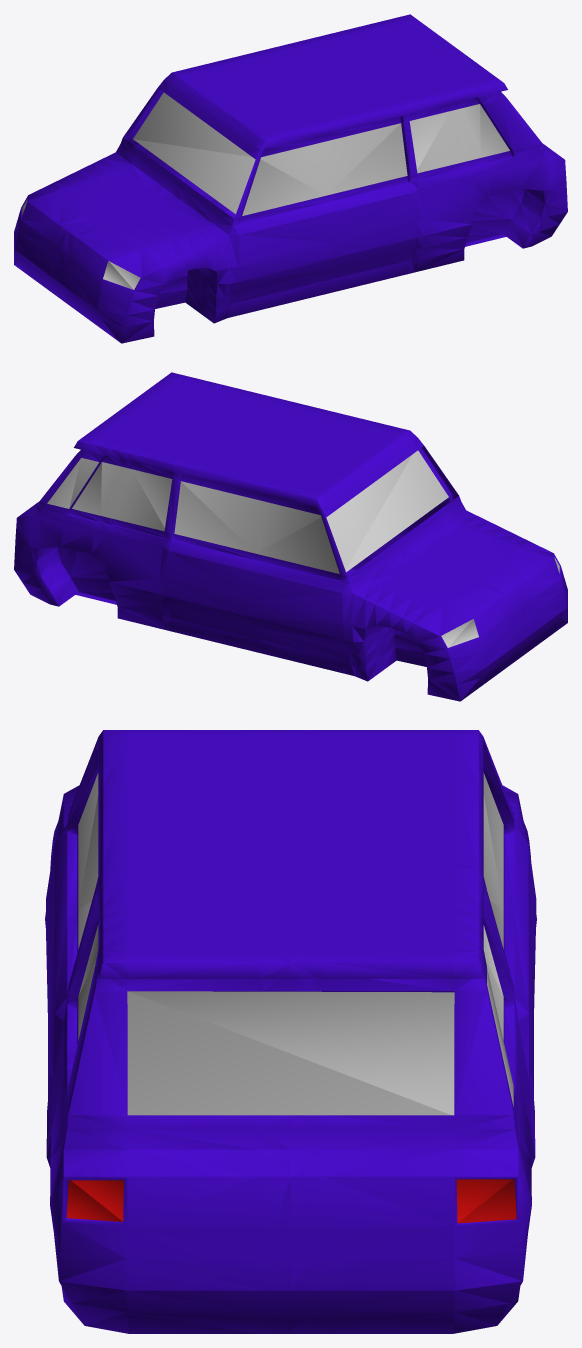
The model's file is voiture2.obj.
3 renders of one model, top to bottom at view 1: azimuth 30°, elevation 25°; view 2: azimuth 150°, elevation 25°; view 3: azimuth 270°, elevation 25°, orthographic. The views are drawn at different scales.
Parts seen in each view (by area): view 1: Cube; view 2: Cube; view 3: Cube.
Part boxes in pixels (left/top/right/bottom): Cube: left=14, top=14, right=567, bottom=343; Cube: left=14, top=372, right=567, bottom=701; Cube: left=45, top=730, right=536, bottom=1333.
Bounding box in the file's own units: 11.58 × 3.83 × 5.32.
